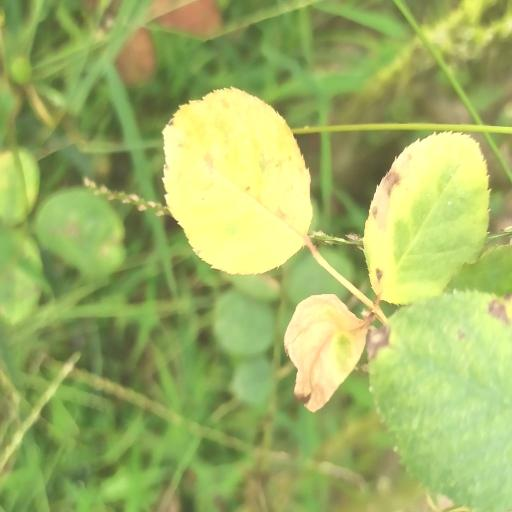thrip: (368, 292, 512, 512), (163, 89, 312, 273), (364, 132, 489, 304), (284, 294, 368, 412)
